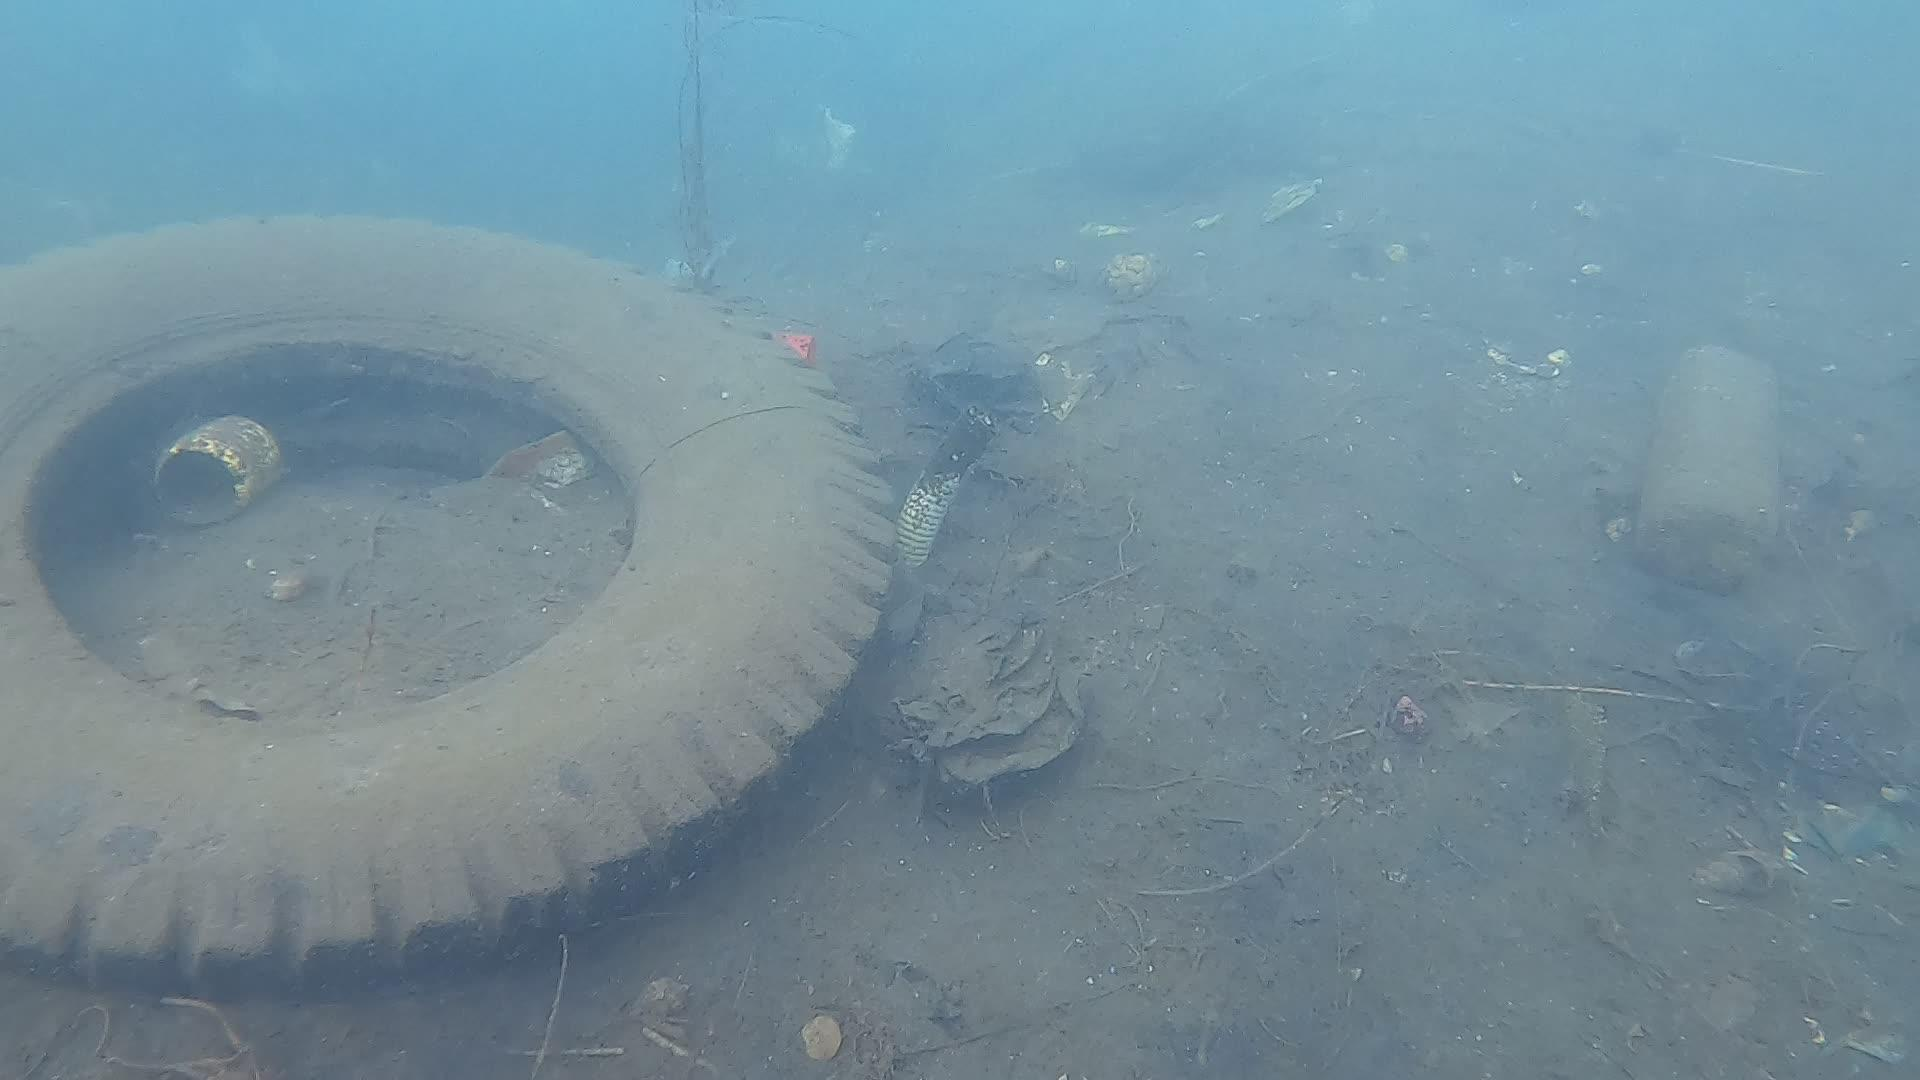tire: (0, 204, 899, 997)
